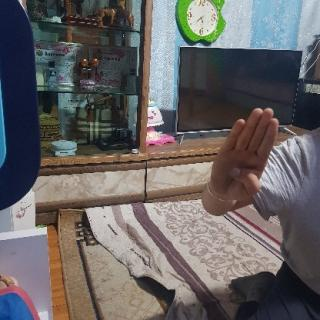KAAF: (207, 104, 276, 206)
